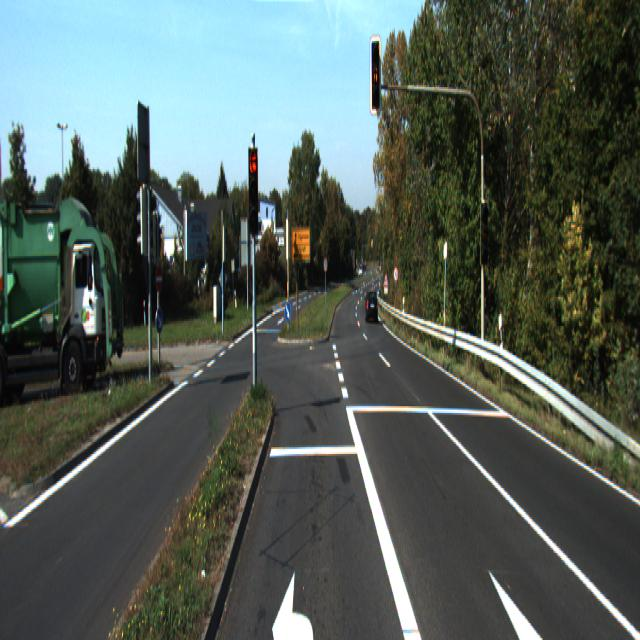Car: (0, 194, 127, 398), (364, 289, 378, 322)
